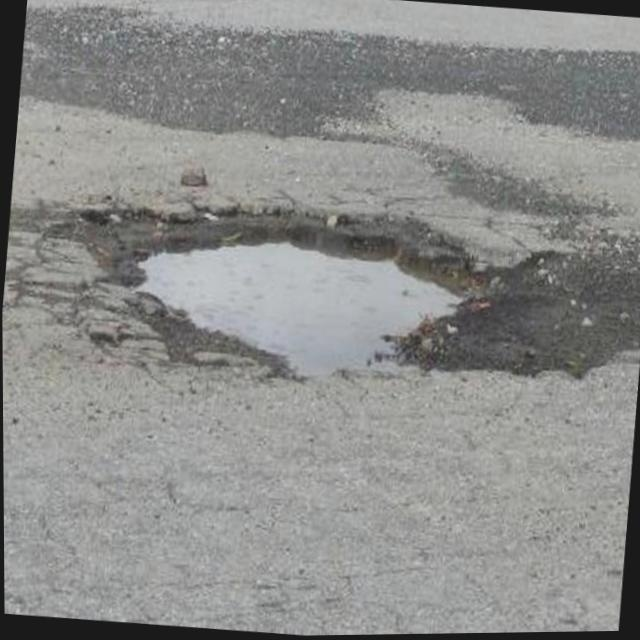pothole: (120, 177, 475, 390)
